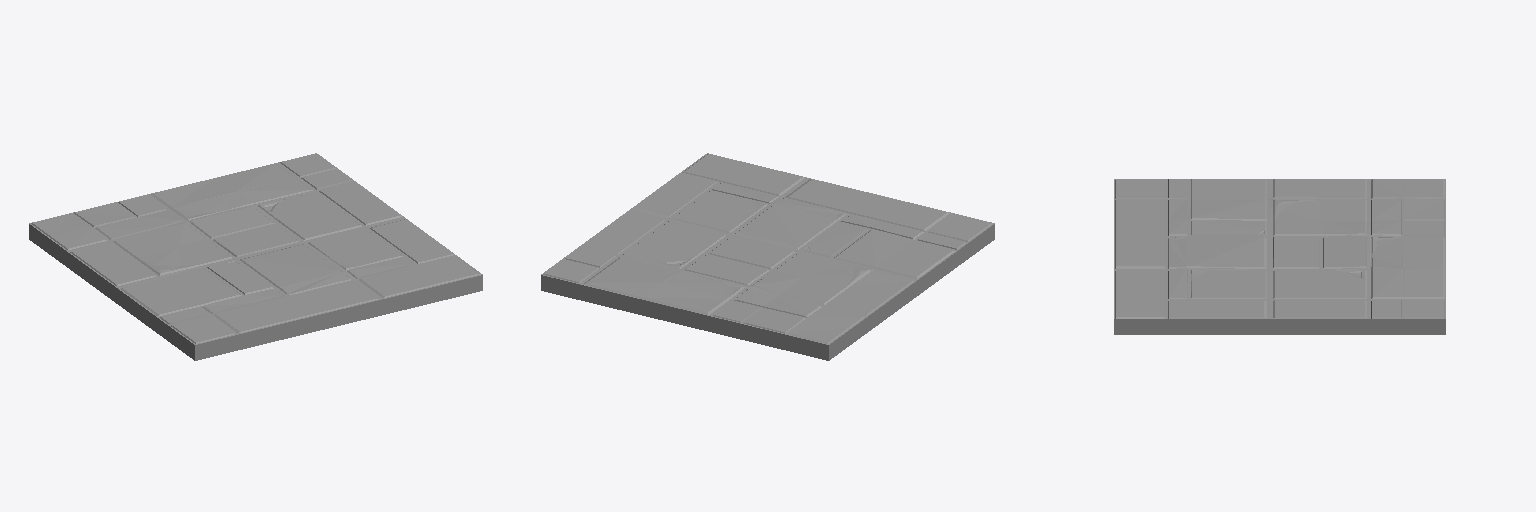
File: platform-3.obj
The picture shows the model from 3 angles: view 1: azimuth 30°, elevation 25°; view 2: azimuth 150°, elevation 25°; view 3: azimuth 270°, elevation 25°; orthographic projection.
Parts seen in each view (by area): view 1: Cube.002_Cube.000; view 2: Cube.002_Cube.000; view 3: Cube.002_Cube.000.
Part boxes in pixels (left/top/right/bottom): Cube.002_Cube.000: left=29, top=153, right=482, bottom=360; Cube.002_Cube.000: left=541, top=153, right=994, bottom=360; Cube.002_Cube.000: left=1114, top=179, right=1445, bottom=334.
Size of the model in its own units: 7.96 by 0.4767 by 7.96.